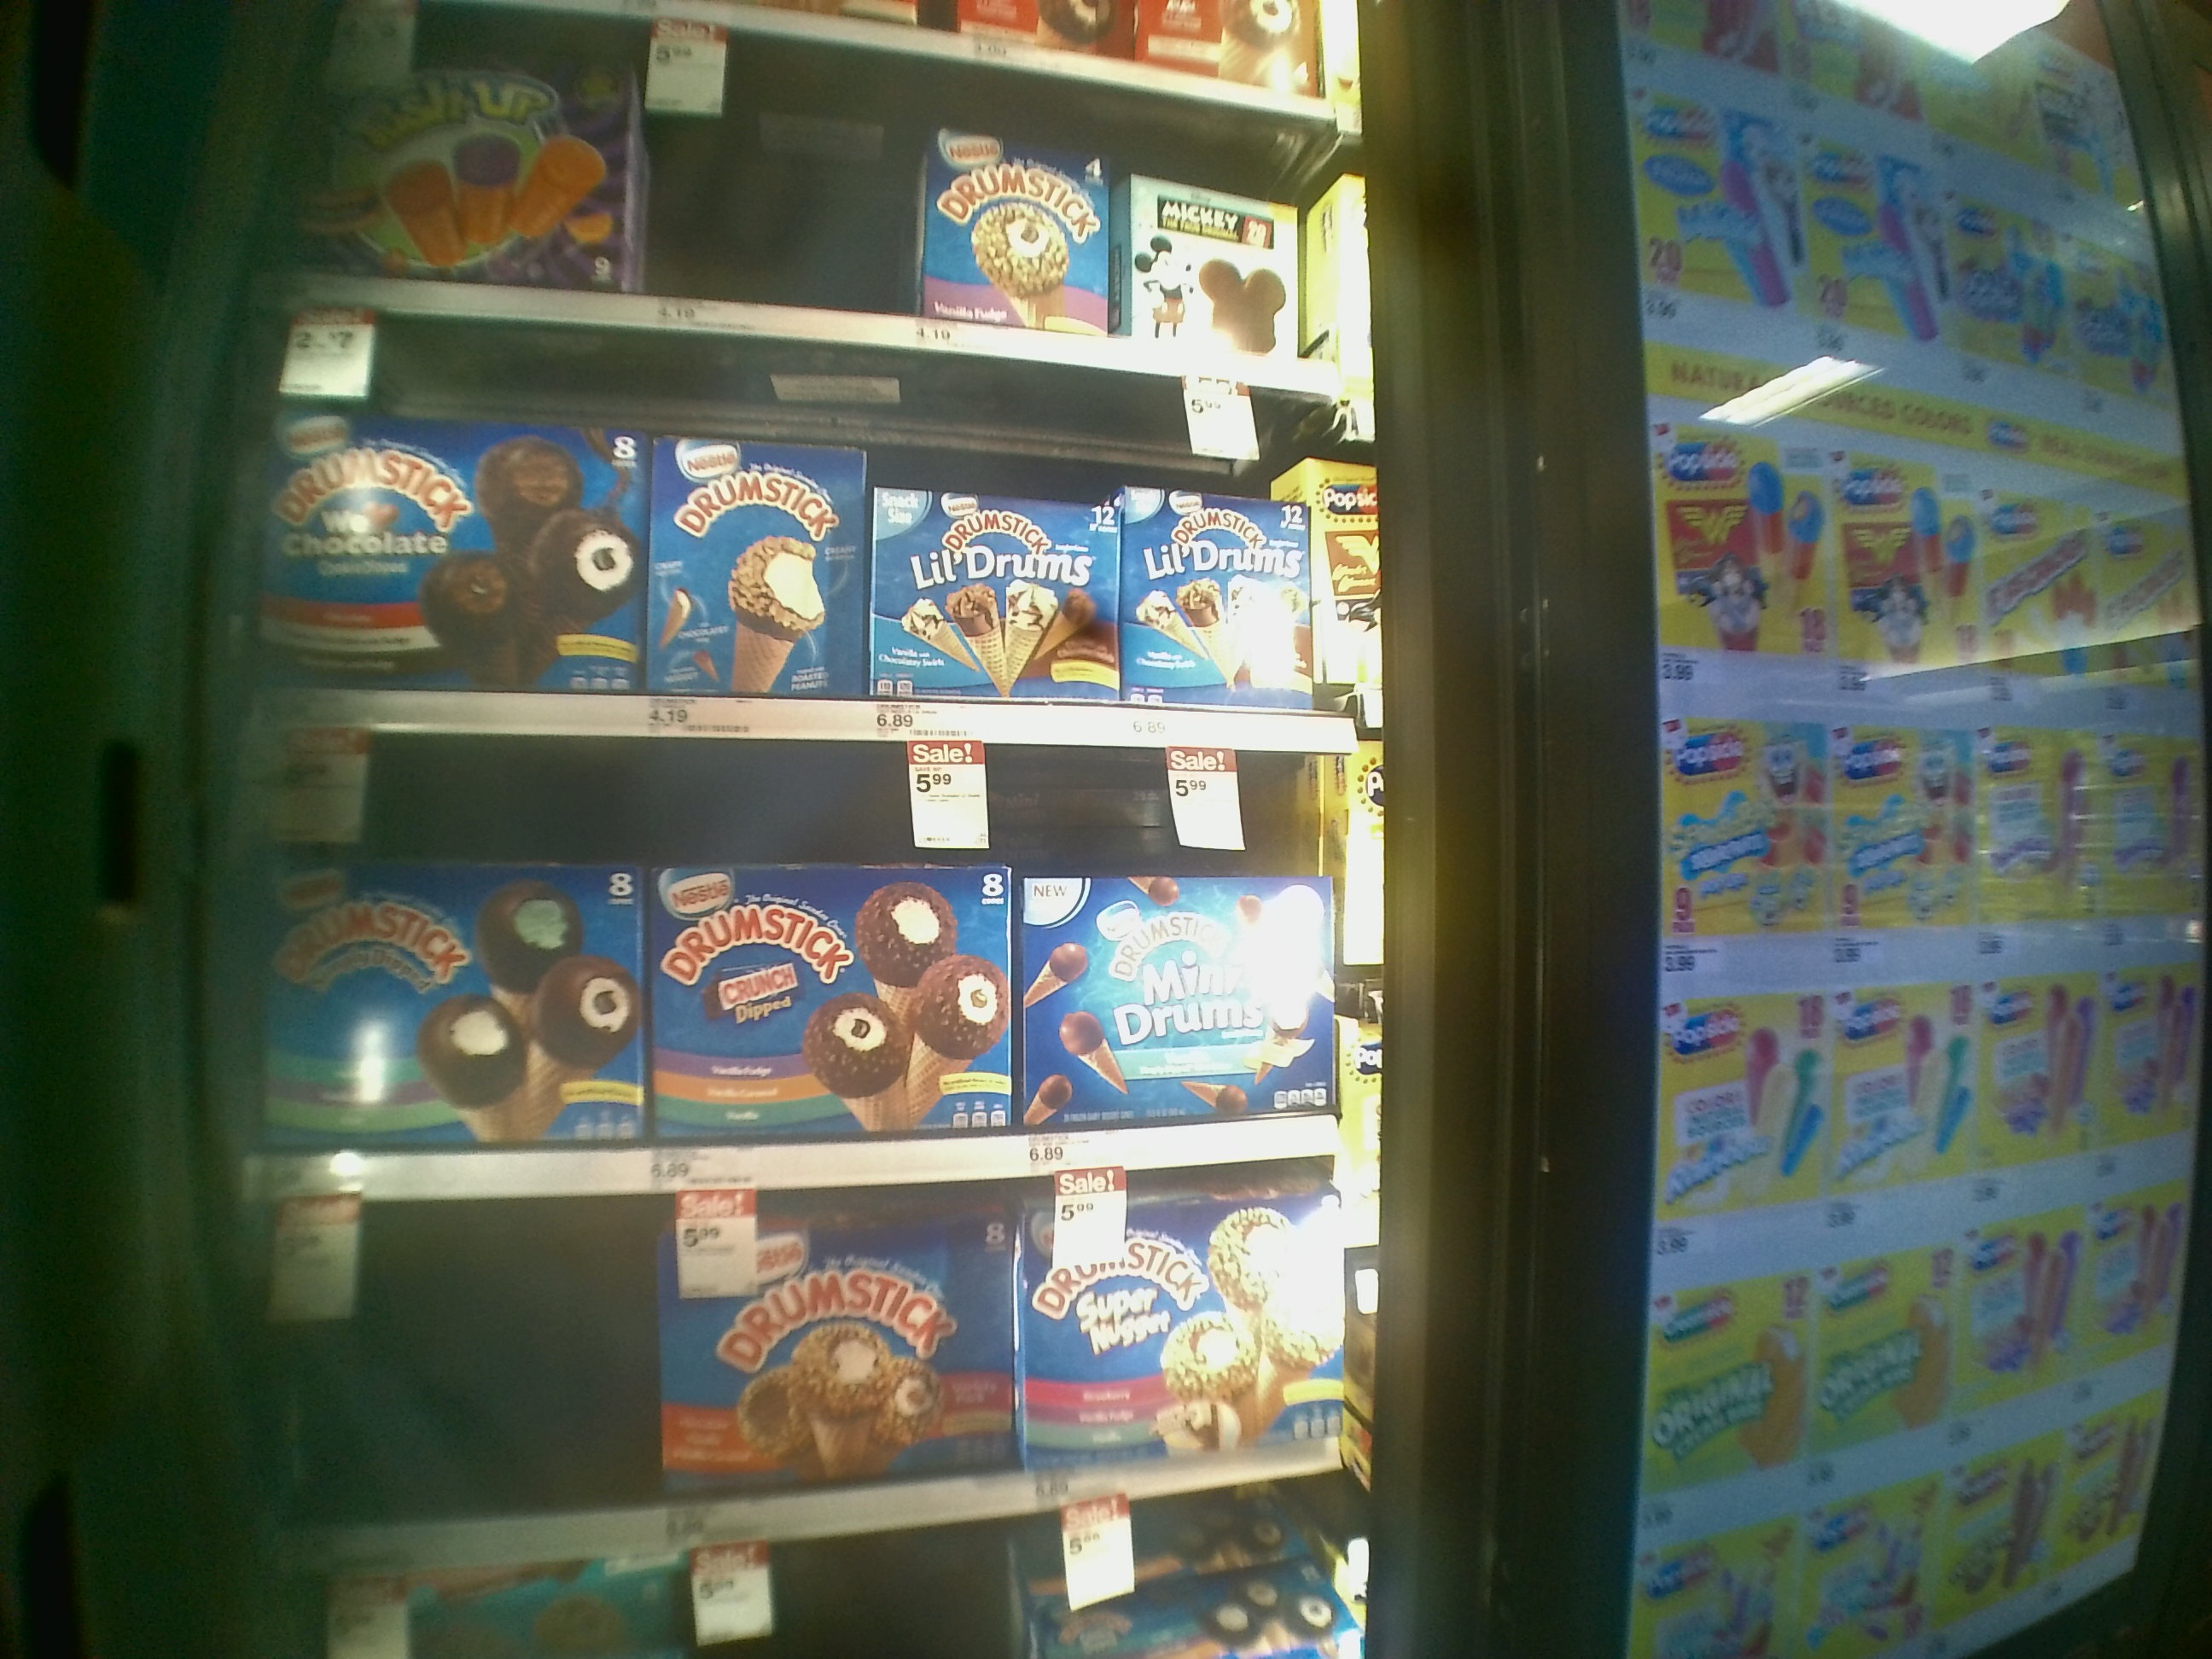shelf: (261, 739, 1371, 1194), (263, 324, 1355, 737), (263, 1161, 1378, 1561)
